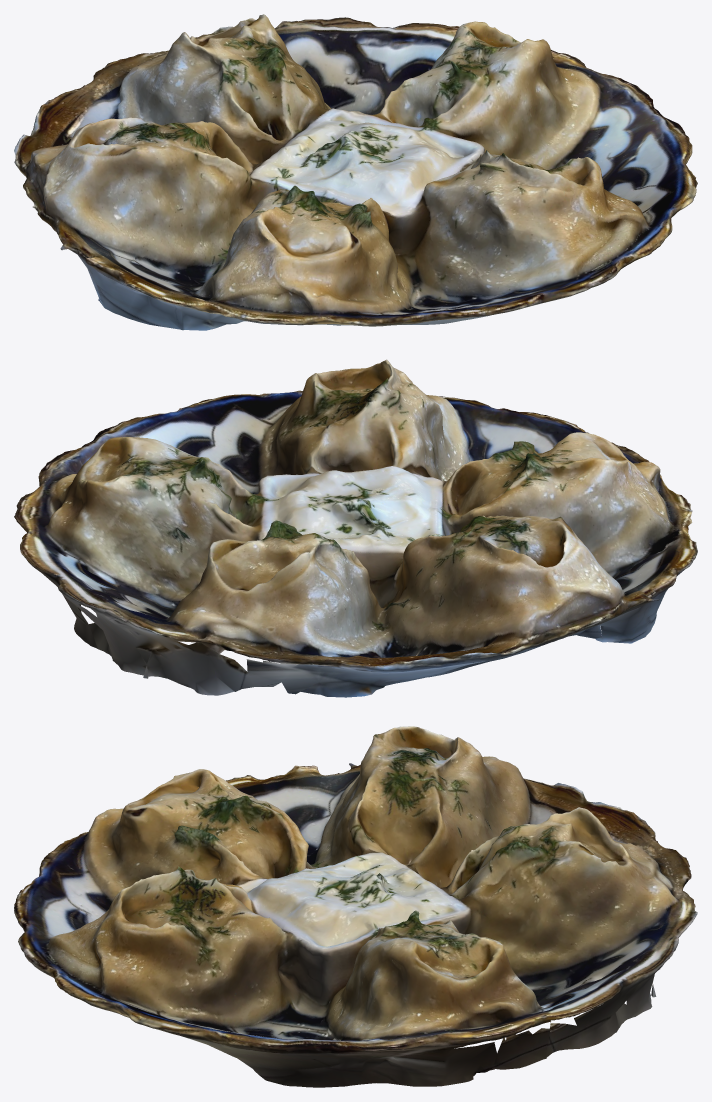
File: mandu.glb
3 views of the same model, one above another, from view 1: azimuth 30°, elevation 25°; view 2: azimuth 150°, elevation 25°; view 3: azimuth 270°, elevation 25° (orthographic).
Visible parts, largest first — view 1: mesh; view 2: mesh; view 3: mesh.
Boxes of the visible parts, <box> form: mesh: <box>14,14,697,330</box>; mesh: <box>14,359,697,697</box>; mesh: <box>14,726,697,1087</box>.
Size of the model in its own units: 0.2408 by 0.0495 by 0.239.
Materials: 1 (1 with a texture image).
